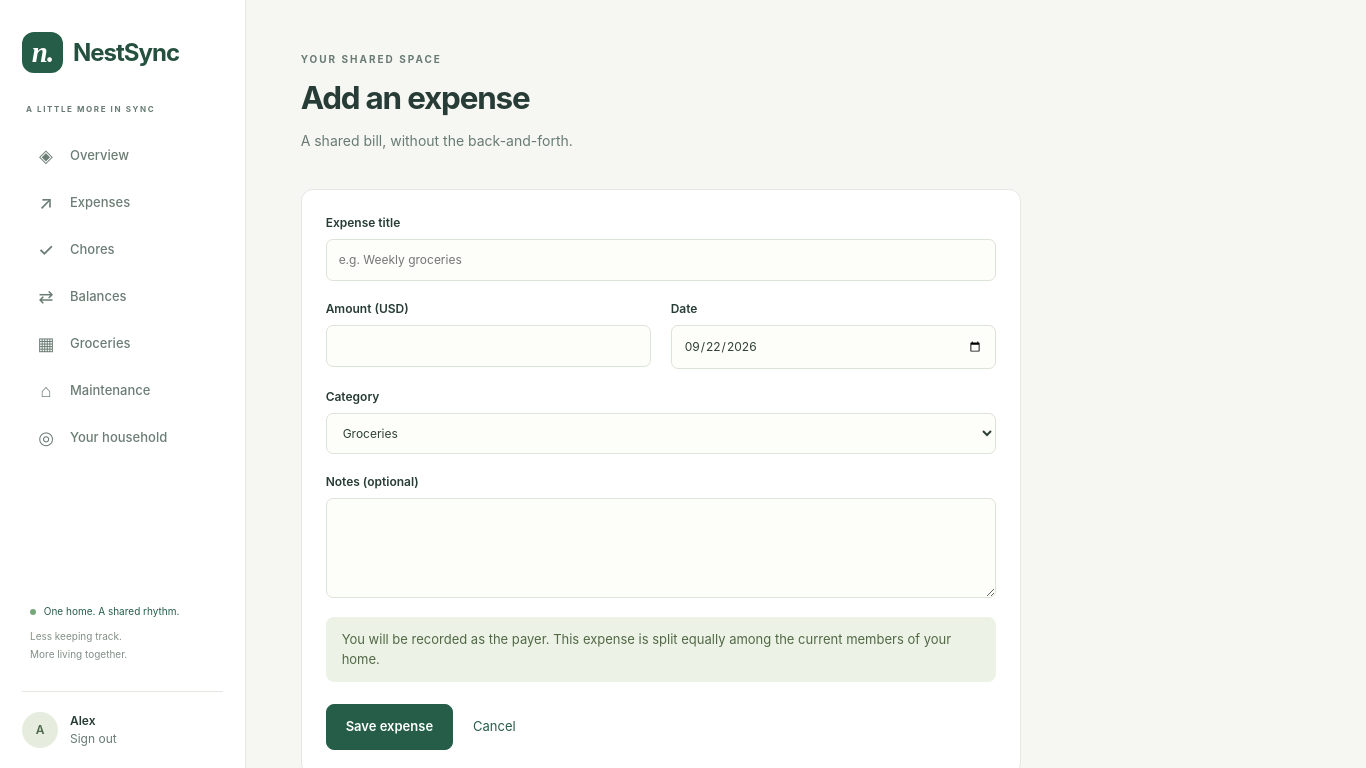
keeps a failed expense form visible for correction
Type "Bill" into the field labelled "Expense title" at (661, 260), box x1=326 y1=239 x2=996 y2=281
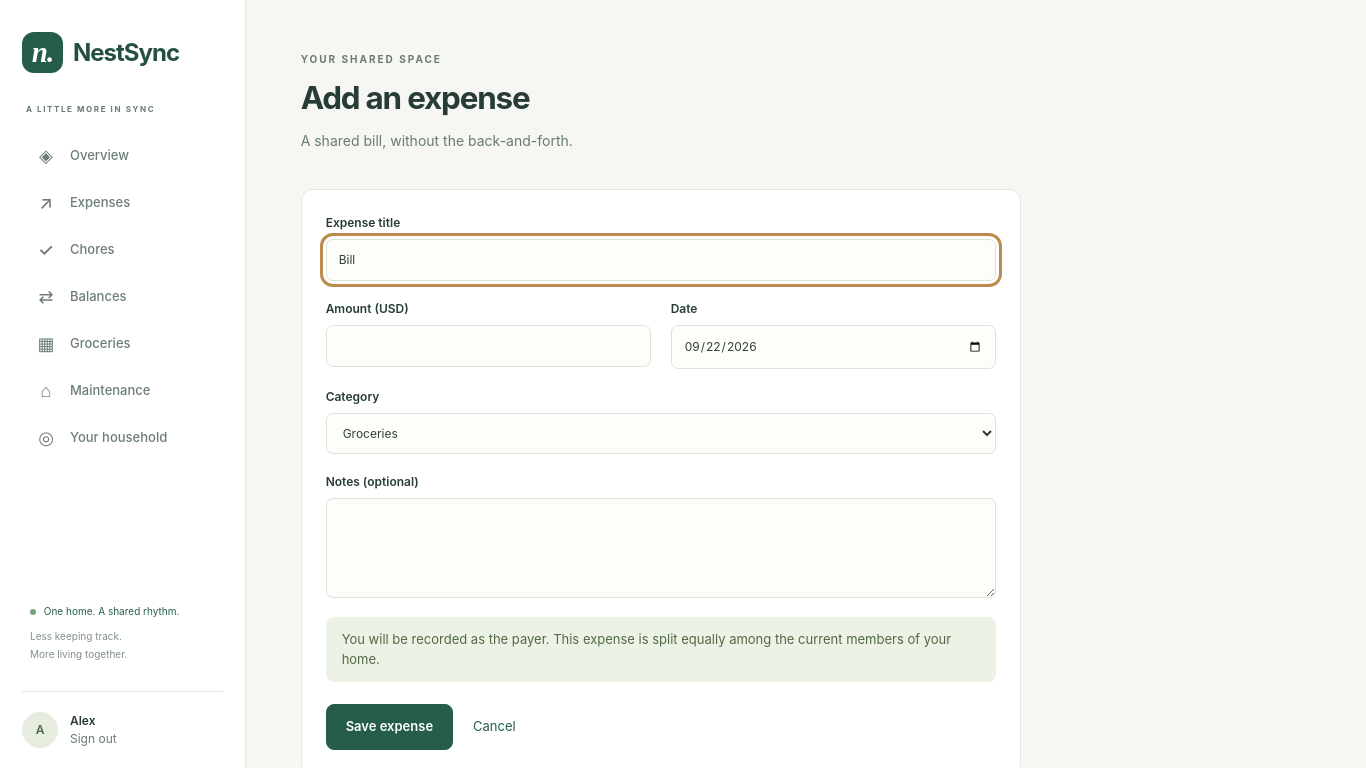
Type "10" into the number field labelled "Amount (USD)" at (488, 346), box x1=326 y1=325 x2=651 y2=367
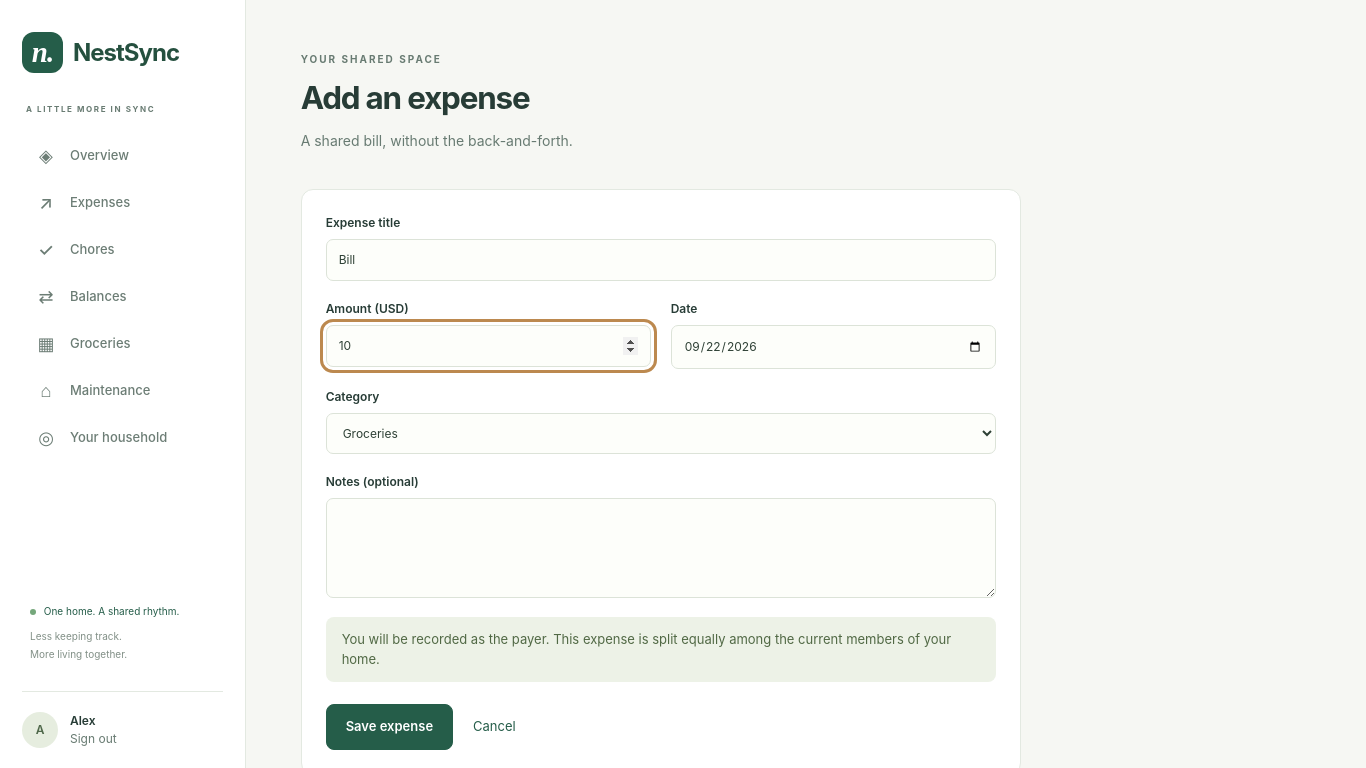
Click the button "Save expense" at (389, 727), box x1=326 y1=704 x2=453 y2=750
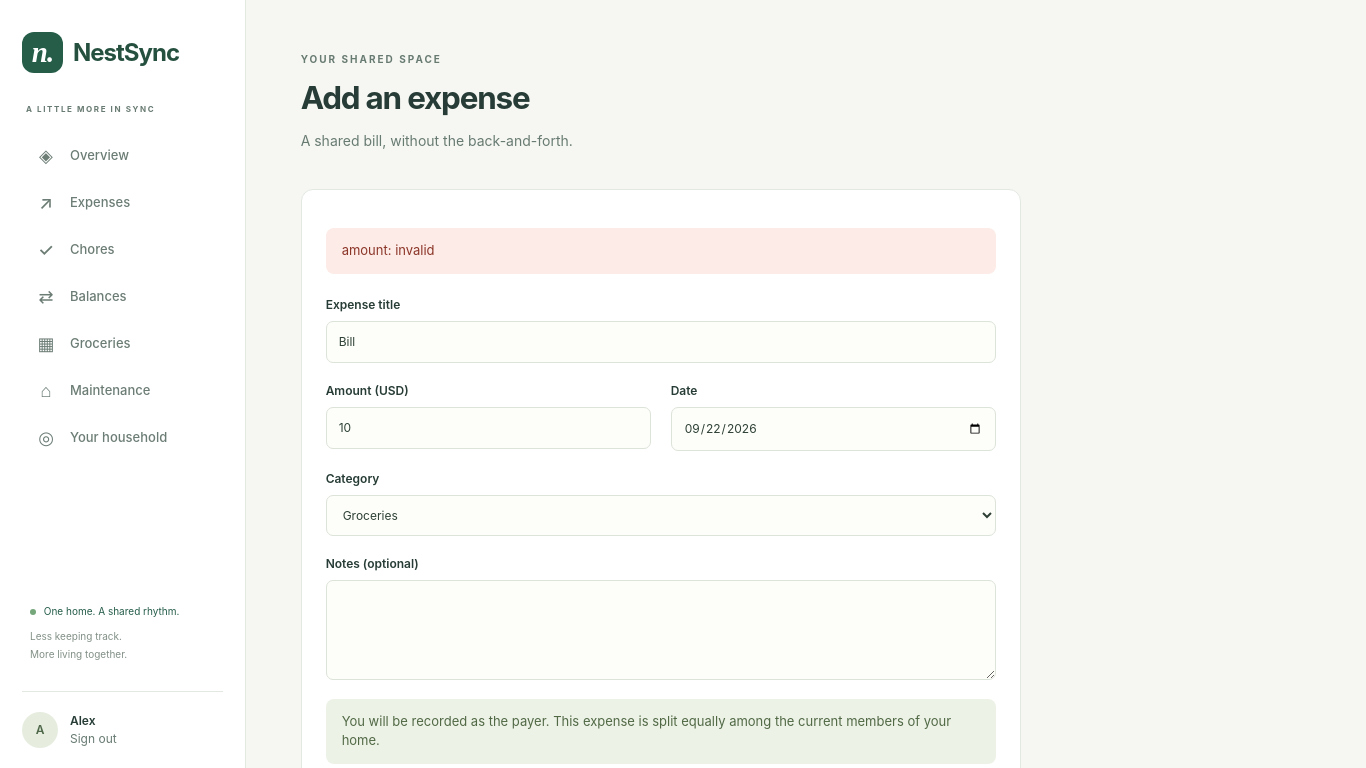
Expected: the message reads "amount: invalid", x1=342 y1=242 x2=435 y2=258
